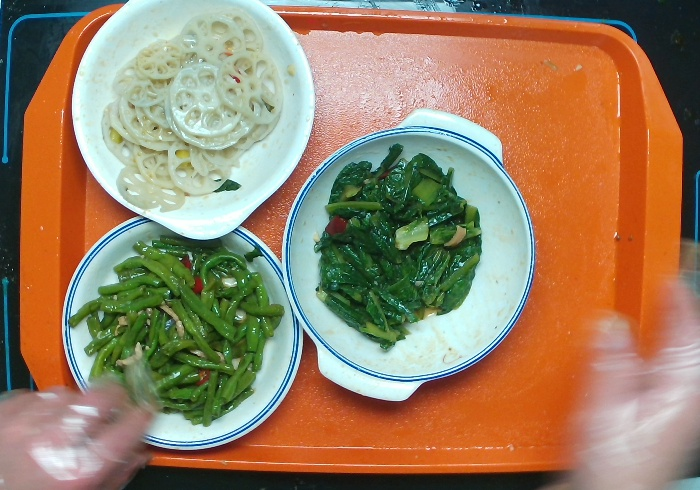HZYJPL-Dai_Er_Bai_Yuan_Wan: (55, 1, 319, 244)
HZYJPL-Lan_Bian_Dai_Er_Wan: (280, 98, 551, 406)
HZYJPL-Lan_Bian_Yuan_Die: (51, 211, 308, 458)
